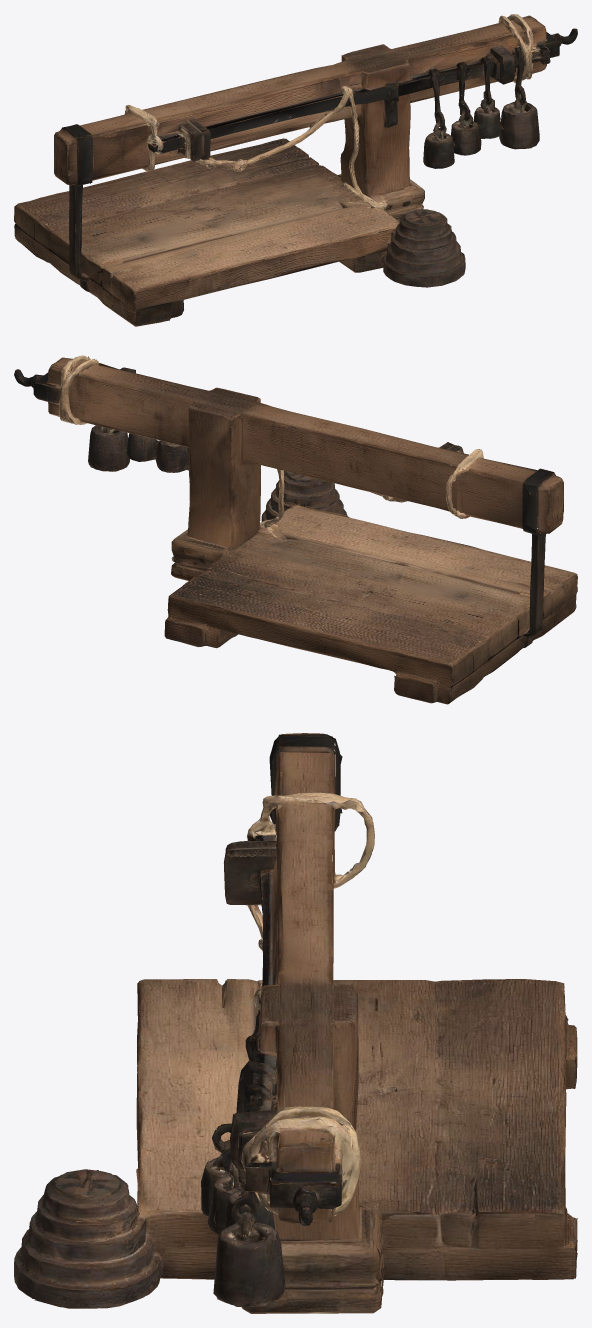
File: warehouse-platform-scale.glb
The picture shows the model from 3 angles, top to bottom: view 1: azimuth 30°, elevation 25°; view 2: azimuth 150°, elevation 25°; view 3: azimuth 270°, elevation 25°; orthographic projection. The views are drawn at different scales.
Parts seen in each view (by area): view 1: Mesh_0; view 2: Mesh_0; view 3: Mesh_0.
Boxes of the visible parts, x1,y1,x2,y2 form: Mesh_0: (14,14,577,326); Mesh_0: (14,355,577,704); Mesh_0: (14,733,577,1313).
Bounding box in the file's own units: 1.9 × 0.604 × 1.01.
1 material, 1 textured.
